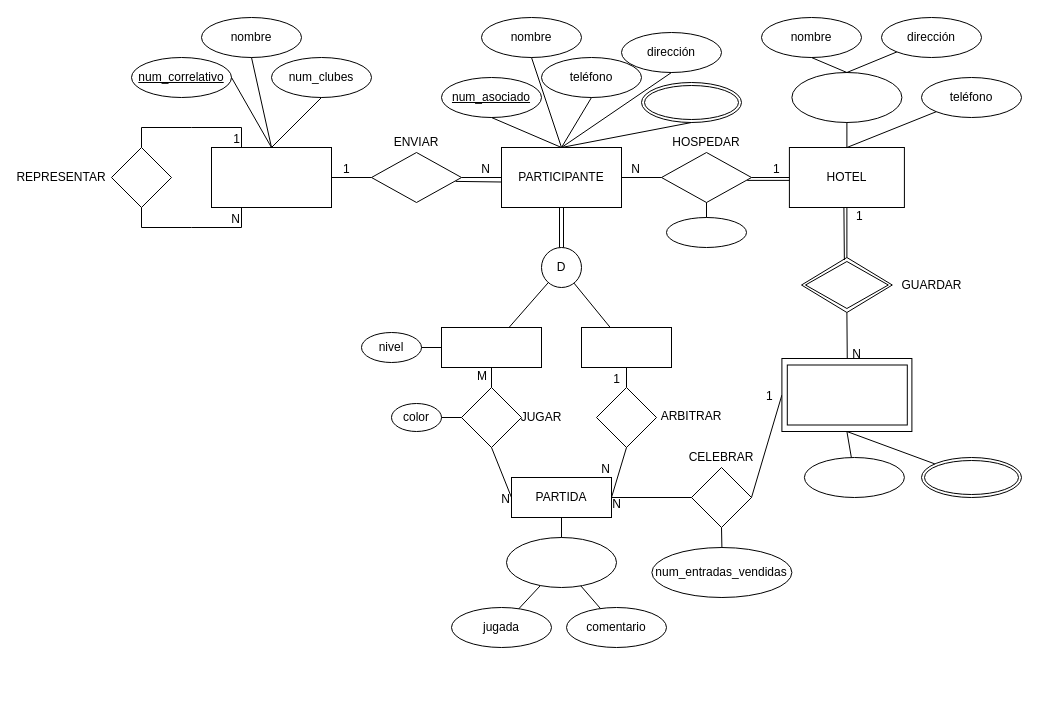
Some shapes in this 1039 by 725 pixel diagram are drawn without their labels. The centre of each missing label's shape, as x and y in pixels:
"campeonatos" belongs at pixel 691 102.
"capacidad" belongs at pixel 853 477.
"fecha" belongs at pixel 706 232.
"JUGADOR" belongs at pixel 491 347.
"medios" belongs at pixel 971 477.
"movimiento" belongs at pixel 561 562.
"nombre+dirección" belongs at pixel 846 97.
"PAÍS" belongs at pixel 271 177.
"SALA" belongs at pixel 846 394.
"ÁRBITRO" belongs at pixel 626 347.
